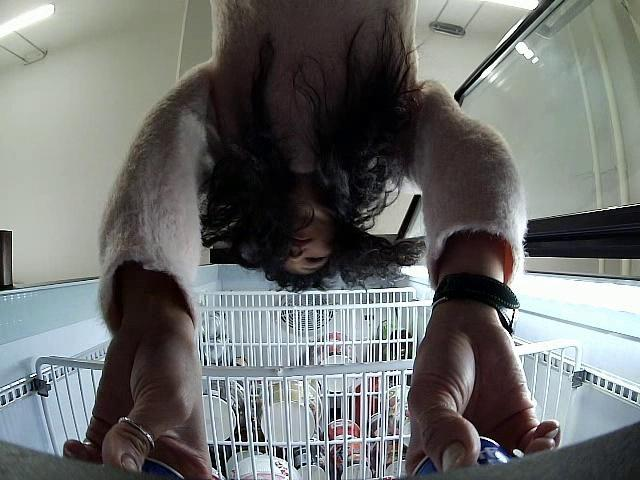16_hot6: (404, 436, 510, 480)
